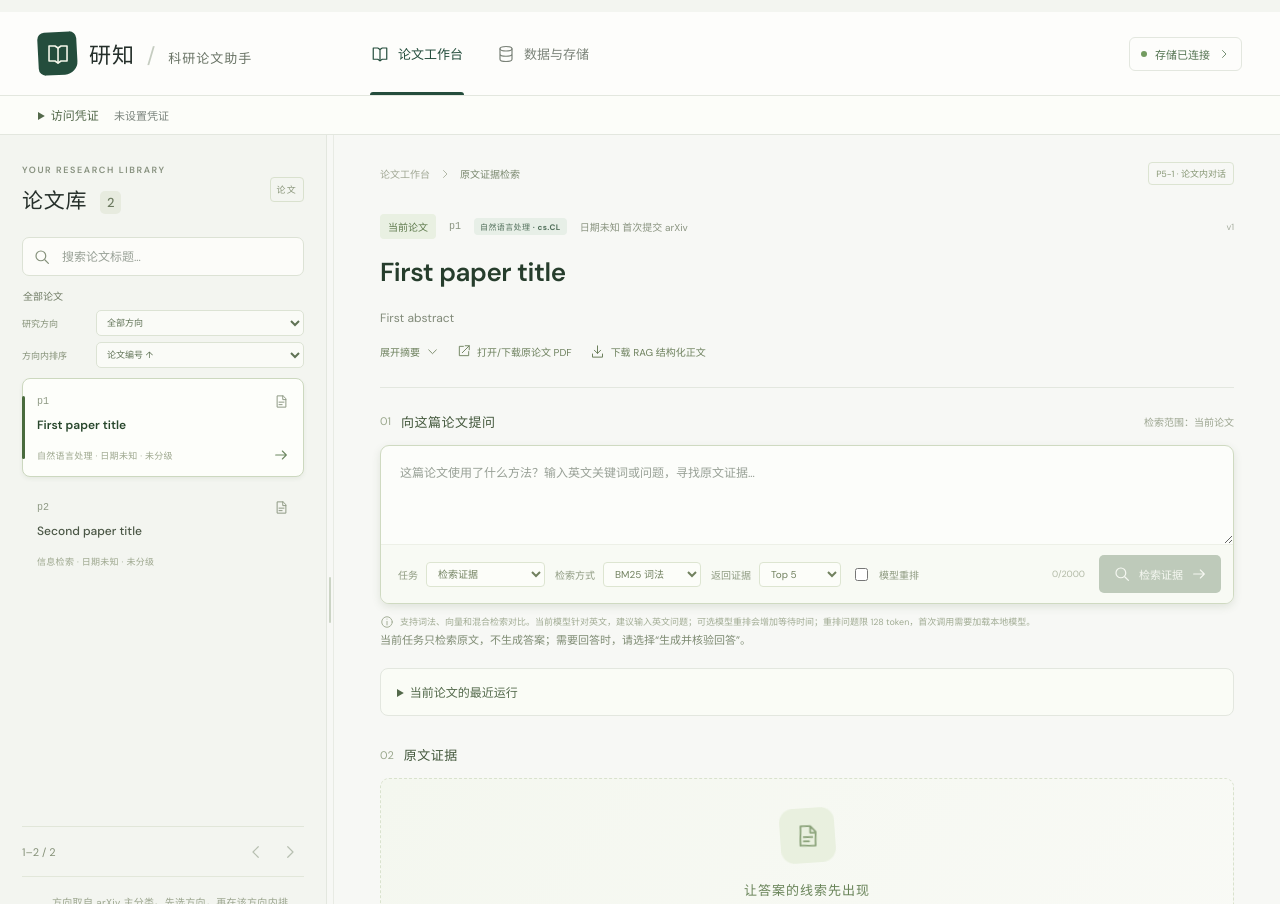
Scenario: research session state › clears previous evidence and the question when selecting another paper
Expected: the heading "First paper title" below "首次提交 arXiv" is shown, 380,255 -> 566,289
Type "method" into the text box named "输入检索问题" at x=807, y=495, box 381,446 -> 1233,544
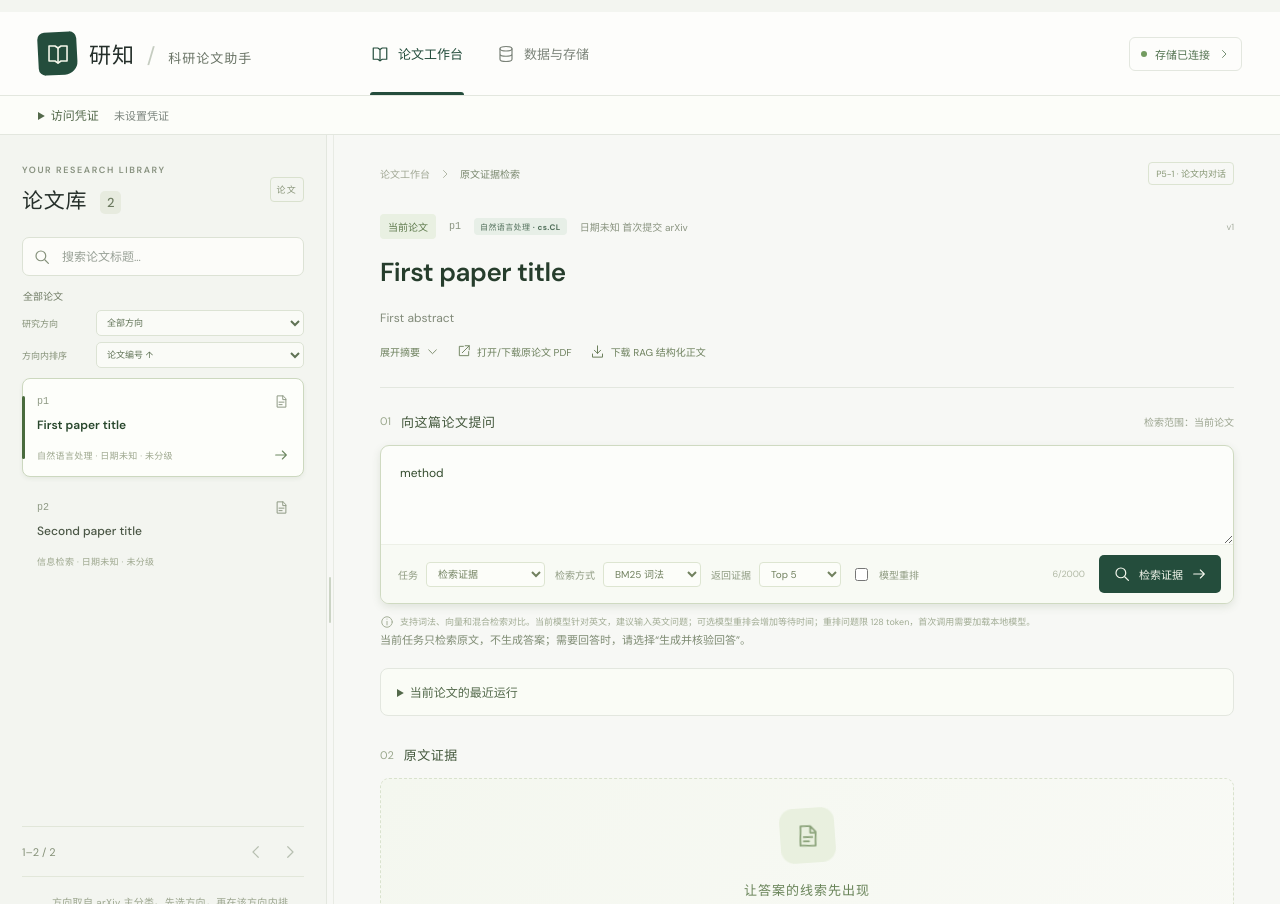
Click the button "检索证据" at x=1160, y=574, box 1099,556 -> 1221,594
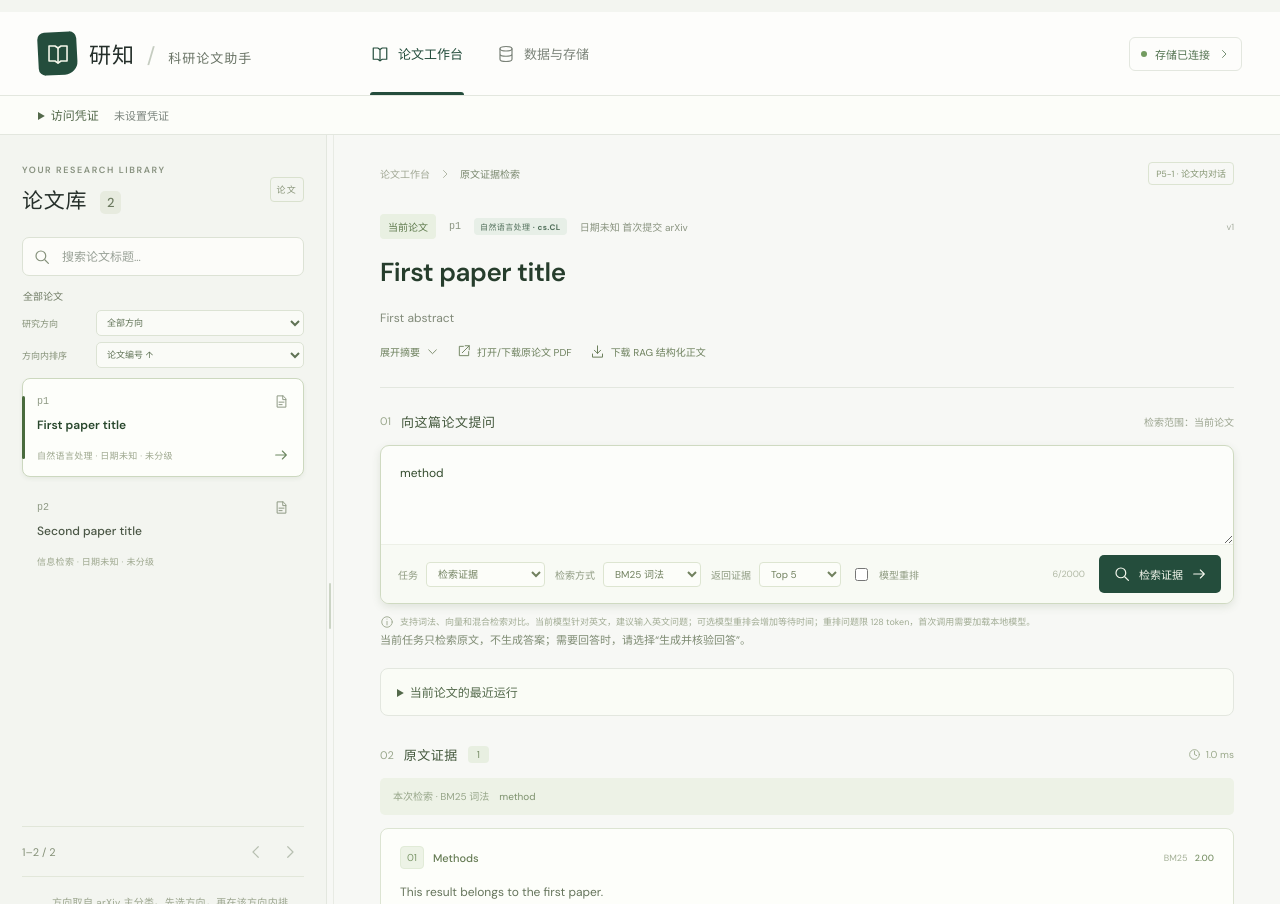
Expected: the text "This result belongs to the first paper." is shown, 400,884 -> 603,900
Click the button "p2 Second paper title 信息检索 · 日期未知 · 未分级" at x=89, y=531, box 22,484 -> 304,584
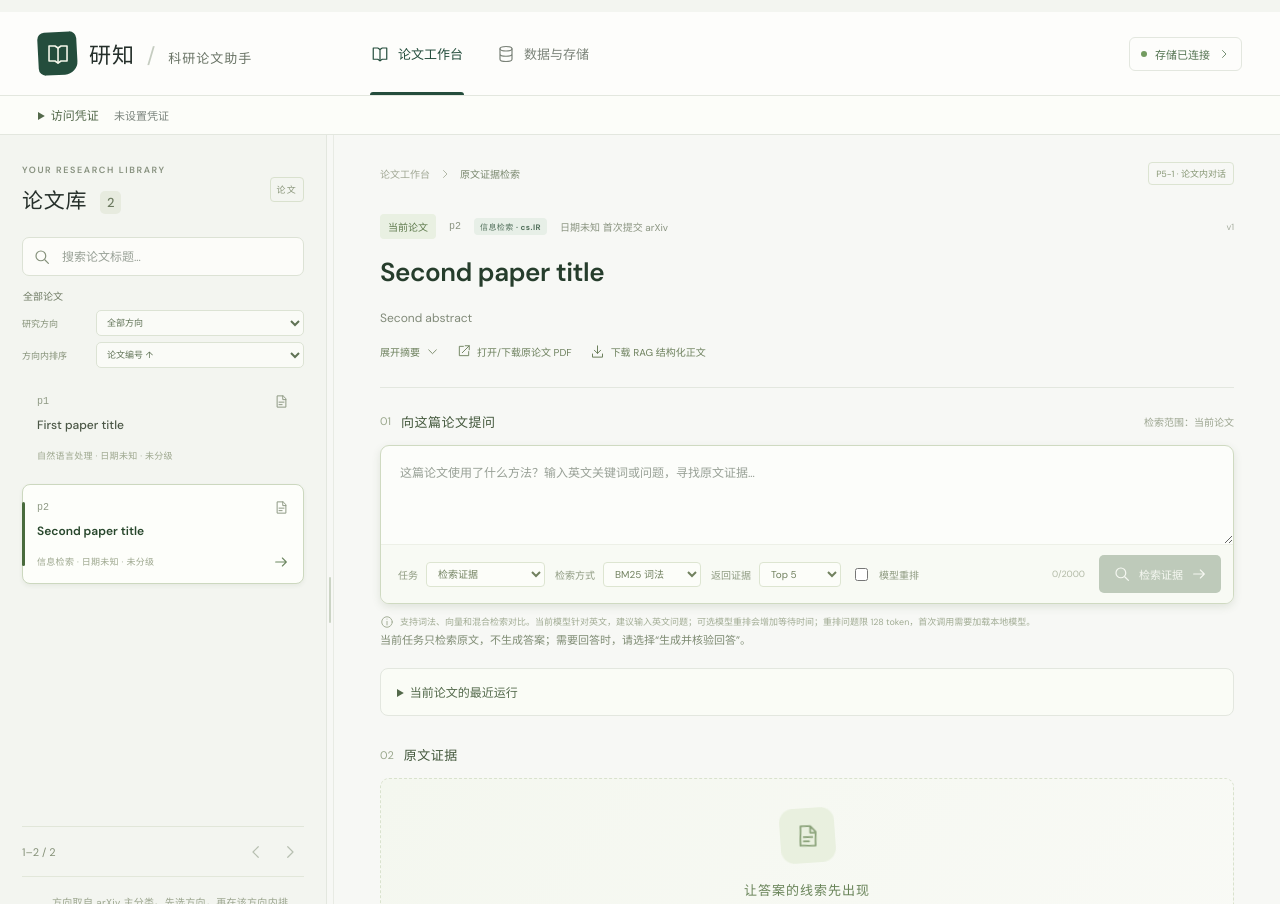
Expected: the text "This result belongs to the first paper." is gone
Expected: the text box named "输入检索问题" is empty, 381,446 -> 1233,544
Expected: the heading "Second paper title" below "首次提交 arXiv" is shown, 380,255 -> 604,289
